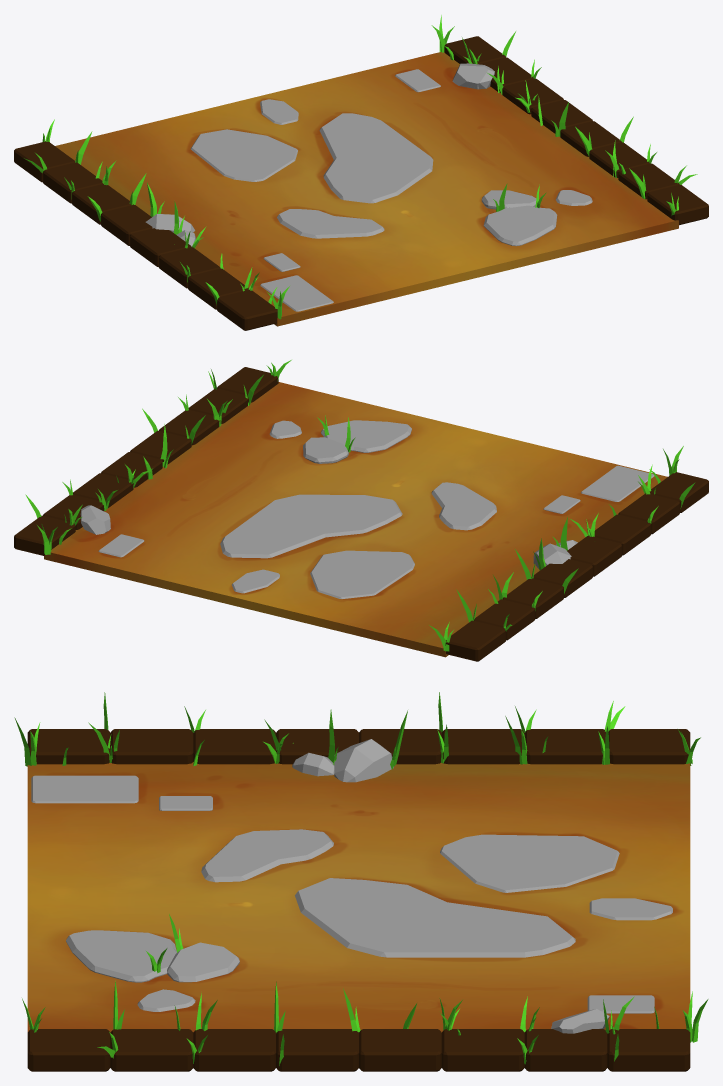
The model's file is Tile.fbx.
3 renders of one model, top to bottom at view 1: azimuth 30°, elevation 25°; view 2: azimuth 150°, elevation 25°; view 3: azimuth 270°, elevation 25°, orthographic. The views are drawn at different scales.
Parts seen in each view (by area): view 1: Plane, Plane.001, Plane.002, Plane.004, Plane.005, Plane.012, Plane.009, Plane.008, Circle.044, Plane.011, Plane.003, Plane.006 (+1 smaller); view 2: Plane, Plane.001, Plane.002, Plane.004, Plane.005, Plane.012, Plane.009, Plane.008, Plane.011, Plane.003, Circle.044, Plane.006 (+1 smaller); view 3: Plane, Plane.002, Plane.001, Plane.004, Plane.005, Plane.012, Plane.009, Plane.008, Plane.011, Circle.035, Plane.003, Plane.006 (+4 smaller).
Boxes of the visible parts, x1=… form: Plane: x1=55, y1=52, x2=678, y2=326; Plane.001: x1=14, y1=141, x2=277, y2=330; Plane.002: x1=444, y1=36, x2=708, y2=225; Plane.004: x1=319, y1=113, x2=433, y2=203; Plane.005: x1=190, y1=129, x2=297, y2=181; Plane.012: x1=277, y1=209, x2=384, y2=238; Plane.009: x1=483, y1=205, x2=557, y2=246; Plane.008: x1=260, y1=275, x2=333, y2=311; Circle.044: x1=452, y1=63, x2=494, y2=89; Plane.011: x1=481, y1=190, x2=536, y2=209; Plane.003: x1=260, y1=99, x2=298, y2=124; Plane.006: x1=395, y1=69, x2=440, y2=92; Plane: x1=44, y1=382, x2=667, y2=657; Plane.001: x1=445, y1=472, x2=708, y2=661; Plane.002: x1=14, y1=367, x2=278, y2=555; Plane.004: x1=220, y1=494, x2=402, y2=558; Plane.005: x1=310, y1=550, x2=414, y2=598; Plane.012: x1=431, y1=482, x2=496, y2=530; Plane.009: x1=321, y1=420, x2=411, y2=452; Plane.008: x1=581, y1=465, x2=654, y2=501; Plane.011: x1=303, y1=437, x2=348, y2=463; Plane.003: x1=232, y1=569, x2=279, y2=593; Circle.044: x1=80, y1=505, x2=110, y2=534; Plane.006: x1=98, y1=534, x2=144, y2=557; Plane: x1=27, y1=762, x2=690, y2=1032; Plane.002: x1=27, y1=1029, x2=690, y2=1071; Plane.001: x1=27, y1=729, x2=690, y2=764; Plane.004: x1=295, y1=878, x2=575, y2=957; Plane.005: x1=440, y1=834, x2=619, y2=892; Plane.012: x1=201, y1=829, x2=333, y2=882; Plane.009: x1=66, y1=930, x2=176, y2=982; Plane.008: x1=31, y1=775, x2=138, y2=803; Plane.011: x1=167, y1=942, x2=239, y2=982; Circle.035: x1=334, y1=739, x2=393, y2=782; Plane.003: x1=589, y1=898, x2=672, y2=920; Plane.006: x1=587, y1=995, x2=654, y2=1013.
Size of the model in its own units: 721 by 83.46 by 617.
Materials: 6 (1 with a texture image).
